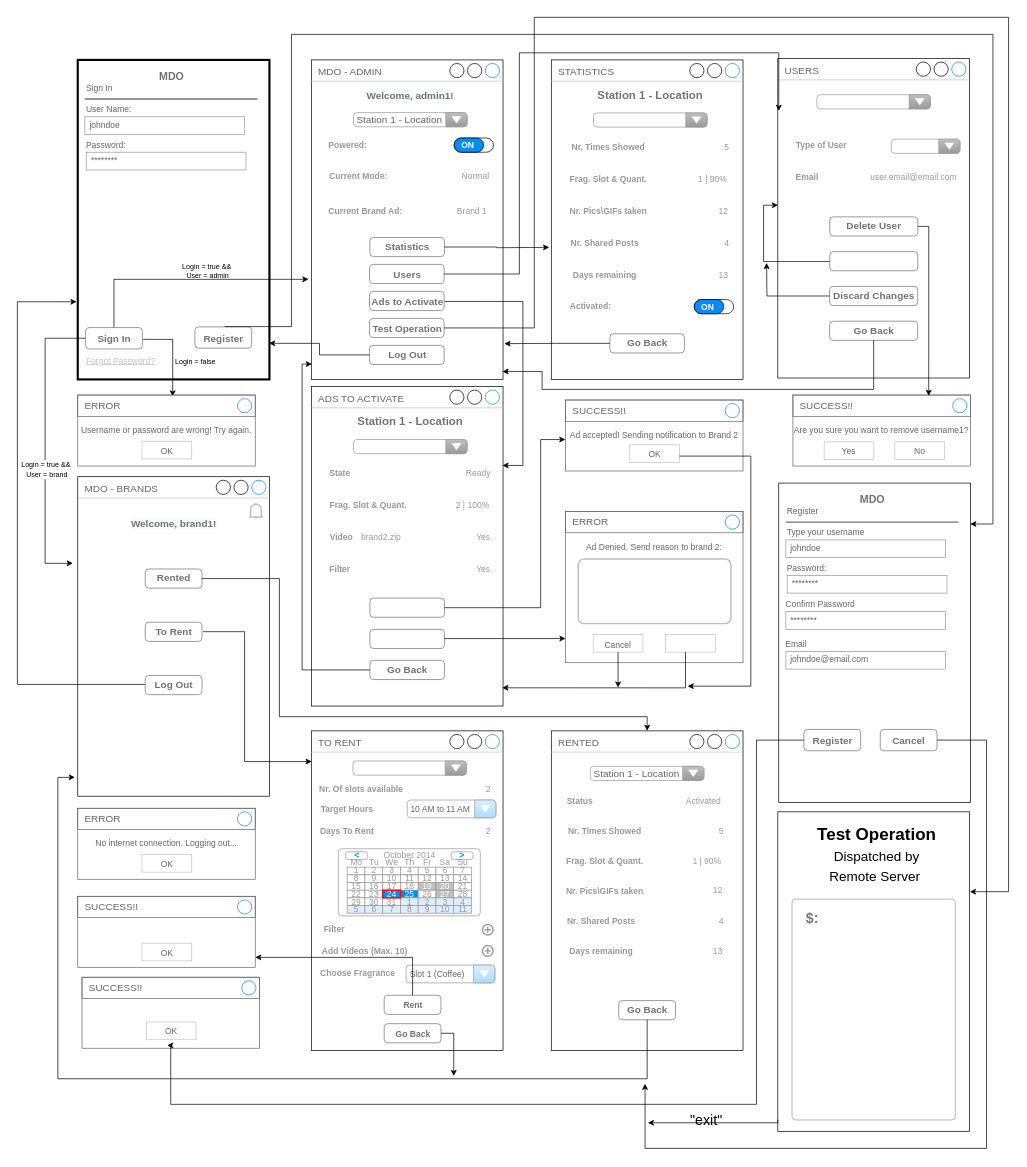
The diagram is 1027 pixels wide and 1167 high, and some of its shapes have lost their labels. The shapes that lost their labels are listed below. From the top down, each one's centre as x and y in pixels, then its label:
At pixel 650 119: "Brand 1 - username".
At pixel 873 101: "username1".
At pixel 925 145: "None".
At pixel 873 261: "Save Changes".
At pixel 410 446: "Brand 2 - username".
At pixel 406 607: "Accept".
At pixel 406 639: "Deny".
At pixel 690 643: "Send".
At pixel 409 767: "Station 2 - Location".
At pixel 166 931: "Your ad is now on check list!".
At pixel 170 1012: "You are now registered!".
